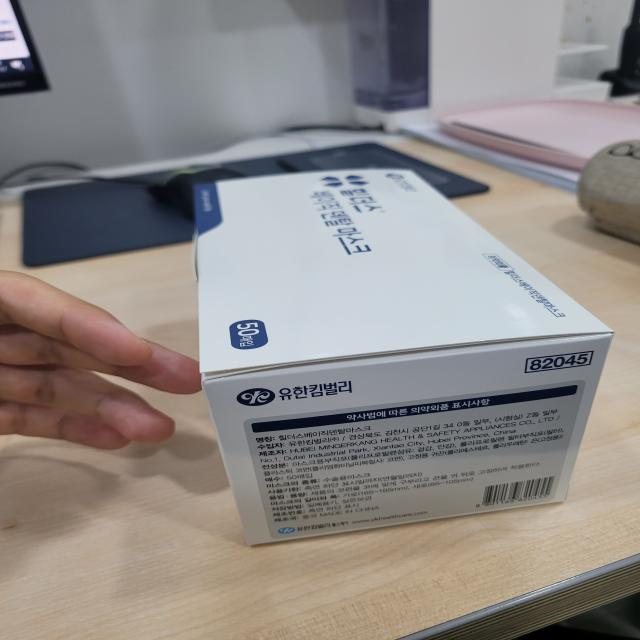mask: (147, 143, 640, 554)
